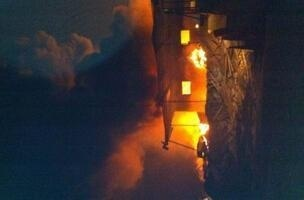fire: (176, 109, 209, 149), (189, 45, 208, 69)
